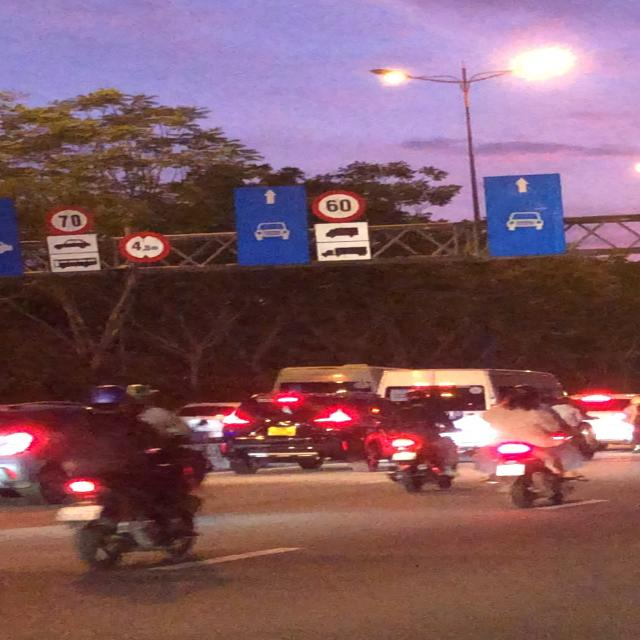Bien bao han che chieu cao: (116, 229, 172, 264)
Bien bao toc do toi da cho phep: (302, 187, 367, 224), (38, 203, 101, 235)
